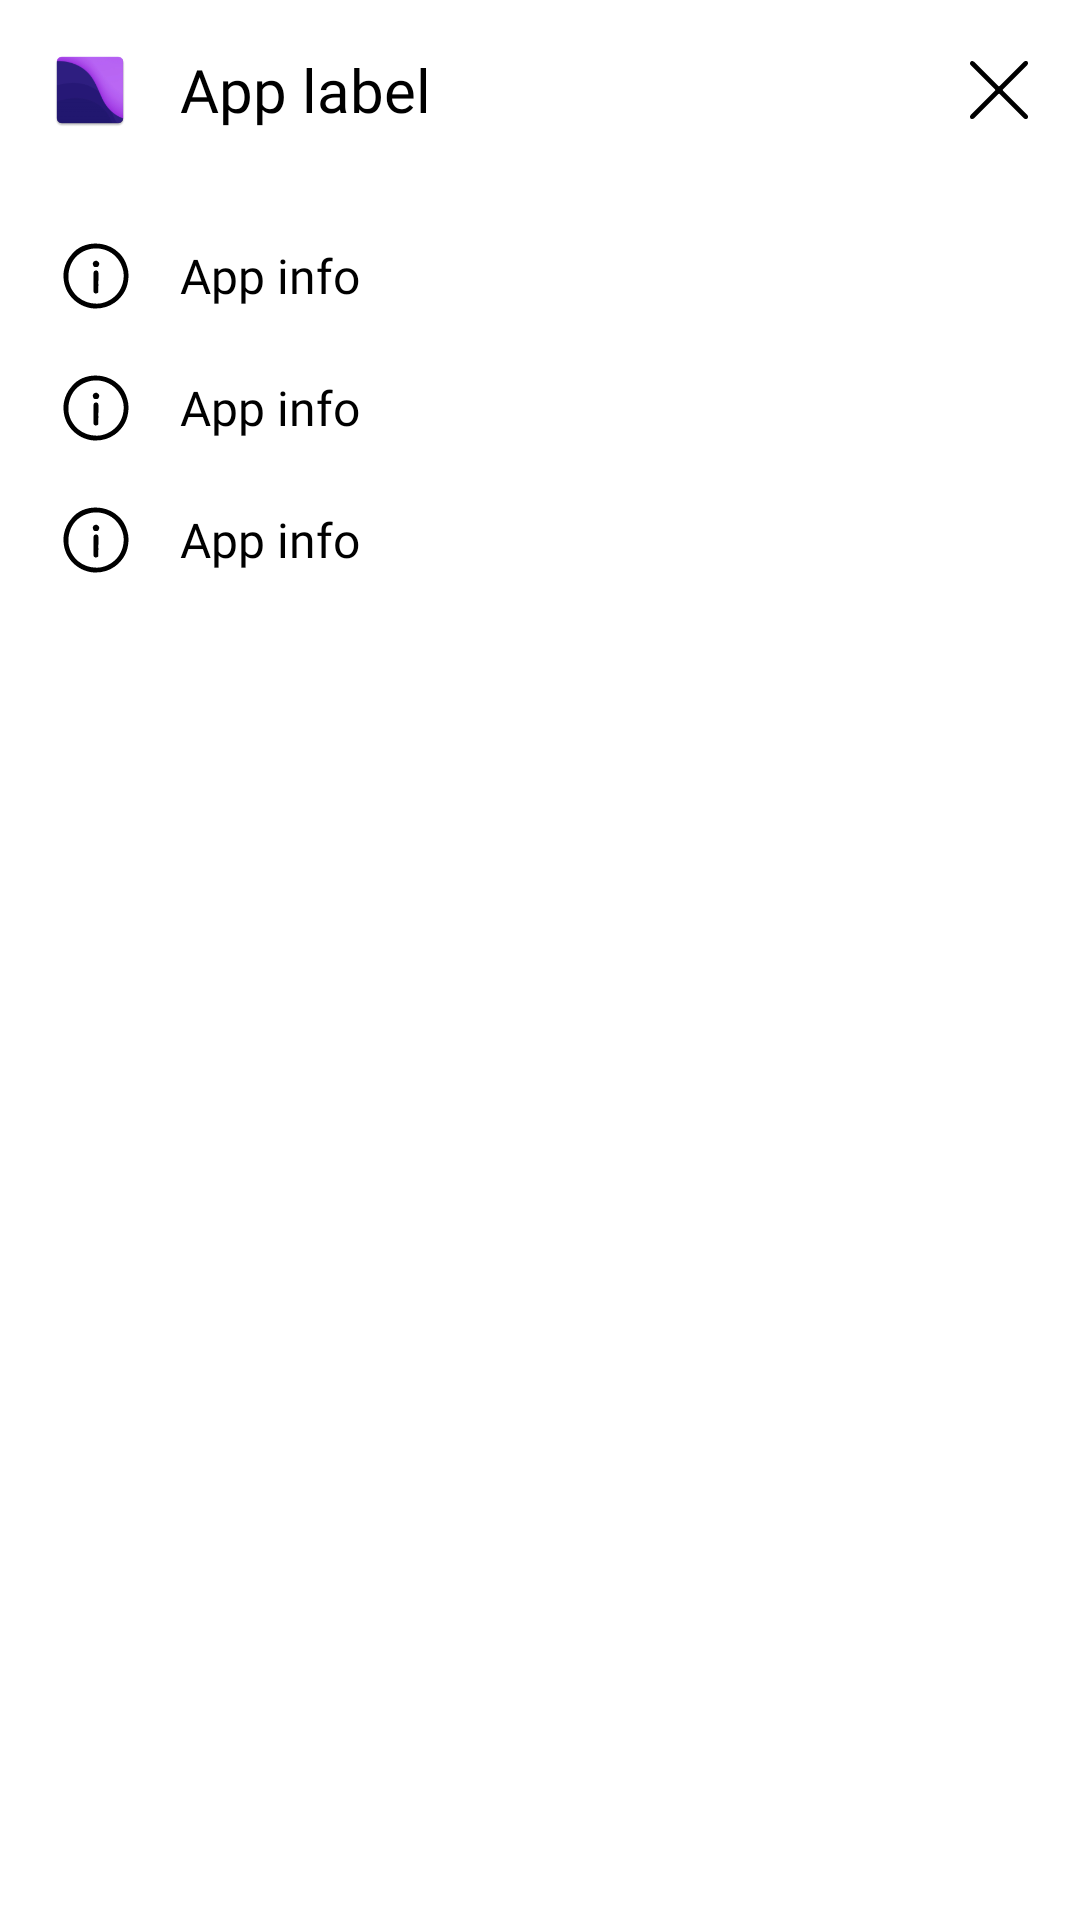

Named icons in this screenshot (1080 x 1920) and their bounding boxes, (x1, y1, x2, y2):
close: (970, 61, 1028, 119)
